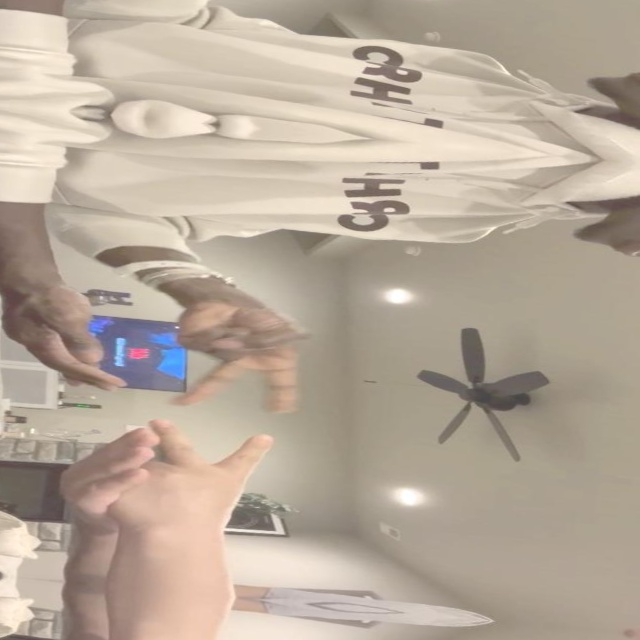Scissors: (98, 415, 276, 539), (143, 298, 313, 416)
